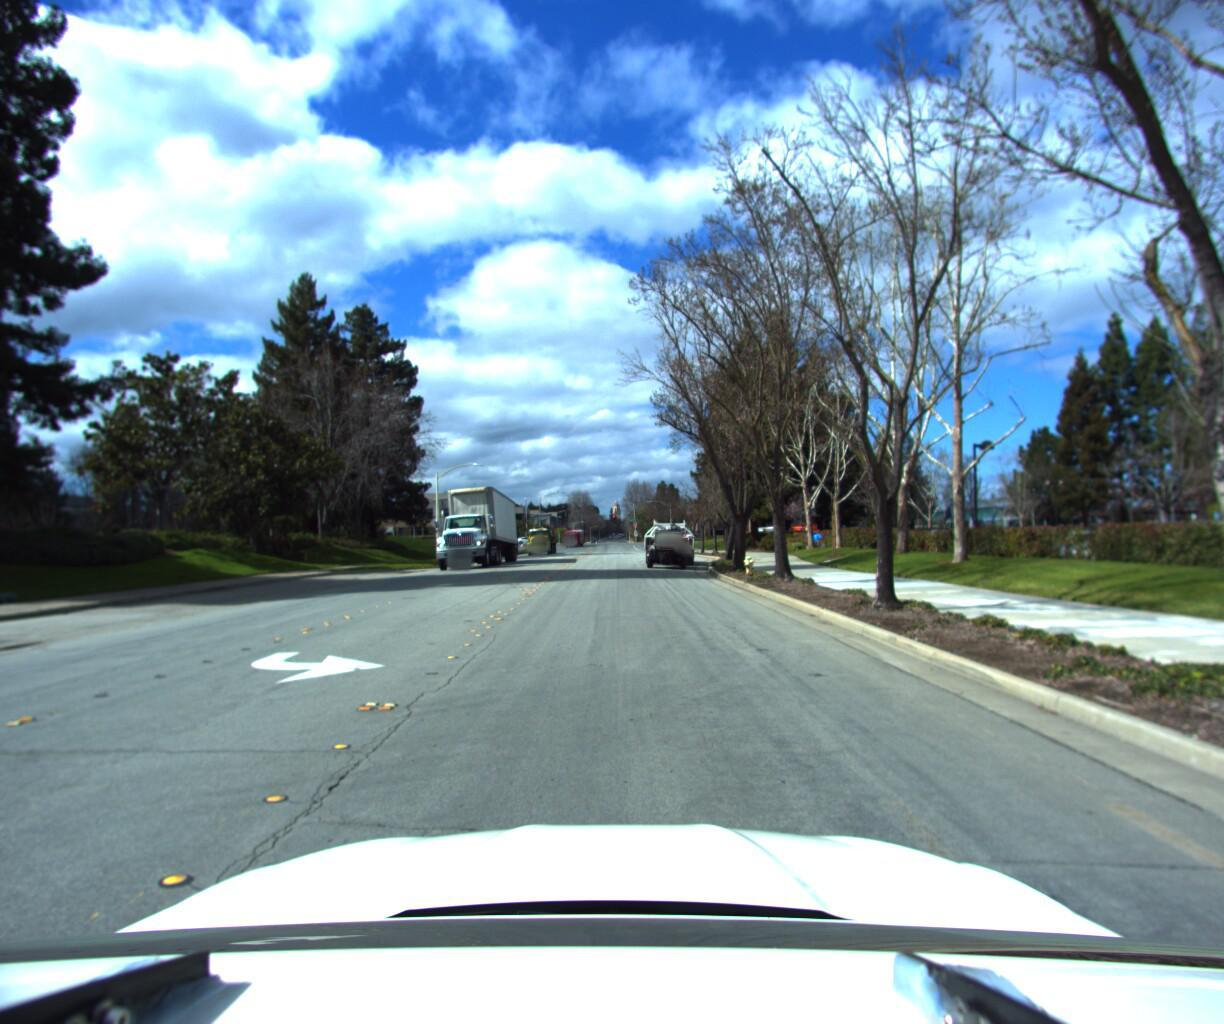truck: (421, 482, 523, 576), (637, 517, 701, 574)
